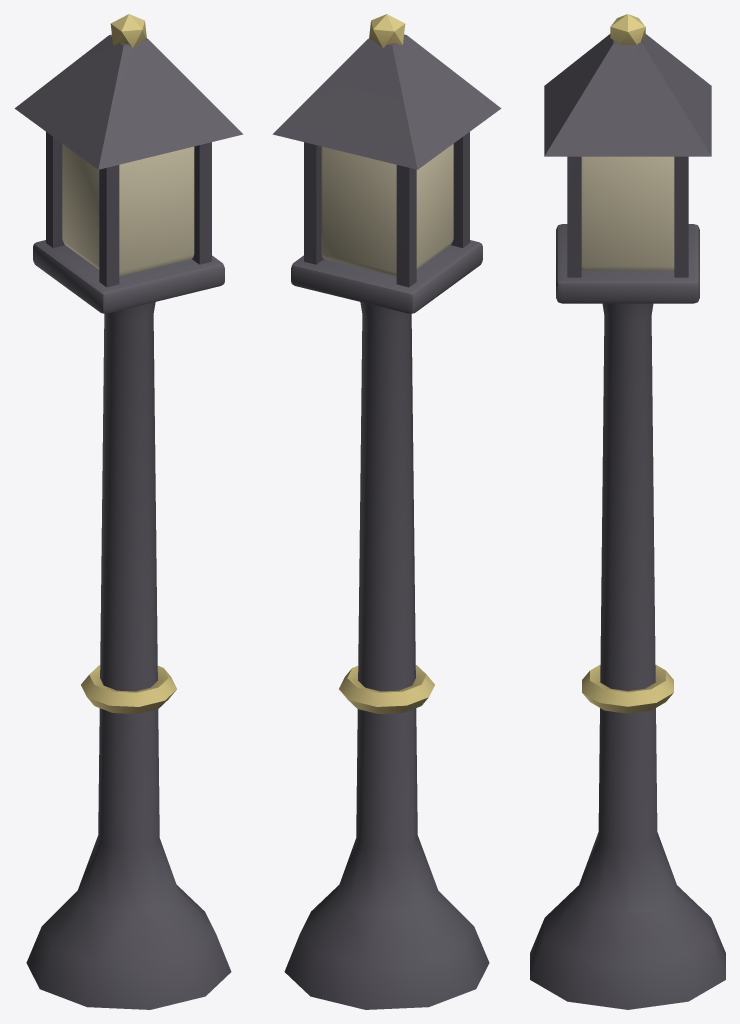
Rendered from lamp.glb.
3 renders of one model, left to right at view 1: azimuth 30°, elevation 25°; view 2: azimuth 150°, elevation 25°; view 3: azimuth 270°, elevation 25°, orthographic.
Parts seen in each view (by area): view 1: main, glow; view 2: main, glow; view 3: main, glow.
Part boxes in pixels (x1=…): main: x1=14, y1=14, x2=243, y2=1009; glow: x1=62, y1=144, x2=194, y2=276; main: x1=272, y1=14, x2=501, y2=1009; glow: x1=321, y1=144, x2=453, y2=276; main: x1=530, y1=14, x2=725, y2=1009; glow: x1=581, y1=156, x2=674, y2=270.
Bounding box in the file's own units: 0.2 × 1.02 × 0.1901.
